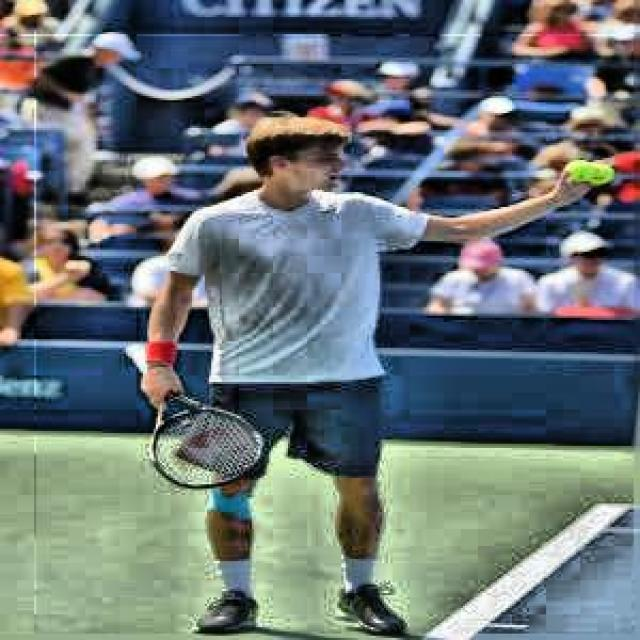tennis-ball: (566, 160, 596, 182), (593, 162, 615, 186)
